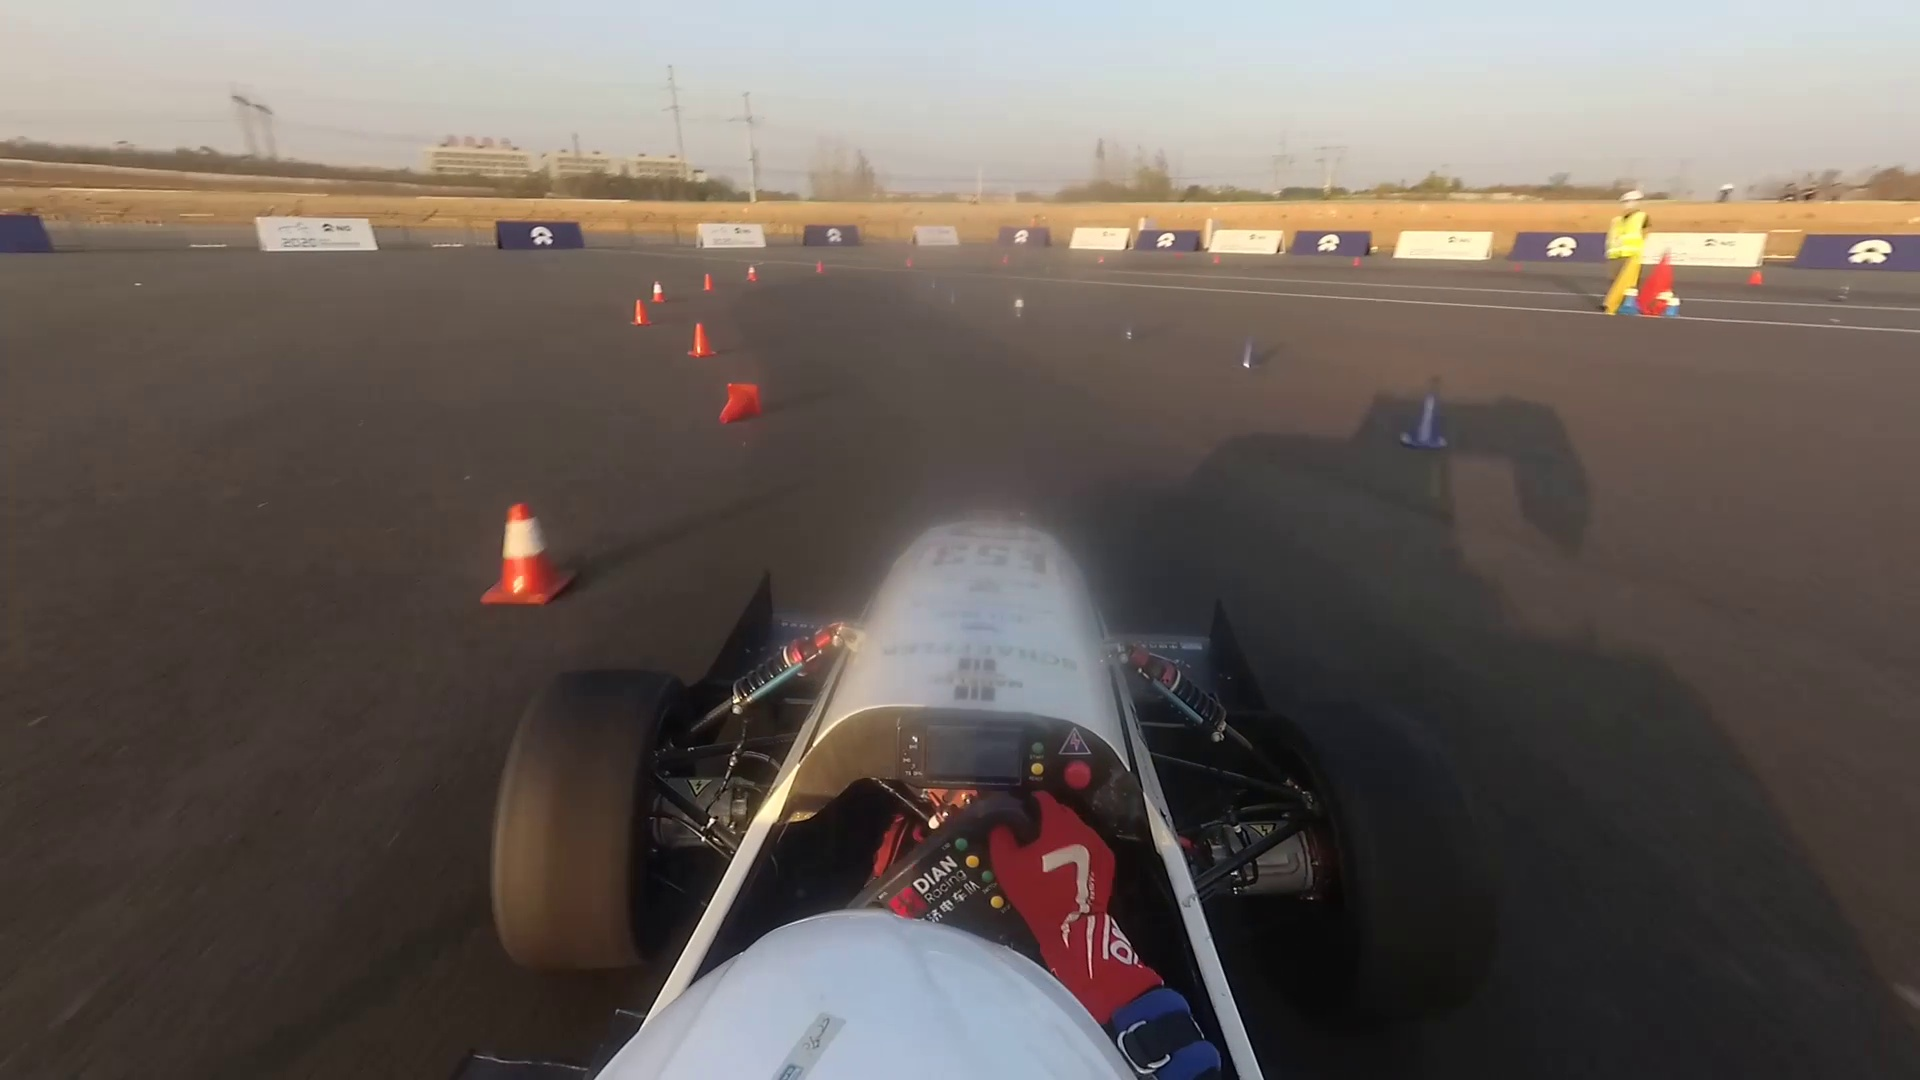blue_cone: (1400, 392, 1451, 451), (1230, 331, 1263, 371), (1005, 291, 1029, 323), (1832, 278, 1855, 309), (1120, 313, 1139, 342)
red_cone: (473, 498, 574, 609), (721, 382, 760, 423), (688, 319, 713, 363), (629, 298, 647, 327), (1749, 262, 1768, 287), (649, 280, 667, 303), (744, 262, 760, 284), (700, 272, 716, 291), (902, 251, 918, 266), (1095, 251, 1108, 266), (1000, 251, 1011, 268), (1212, 251, 1225, 265), (1352, 255, 1364, 269), (816, 257, 825, 274)
